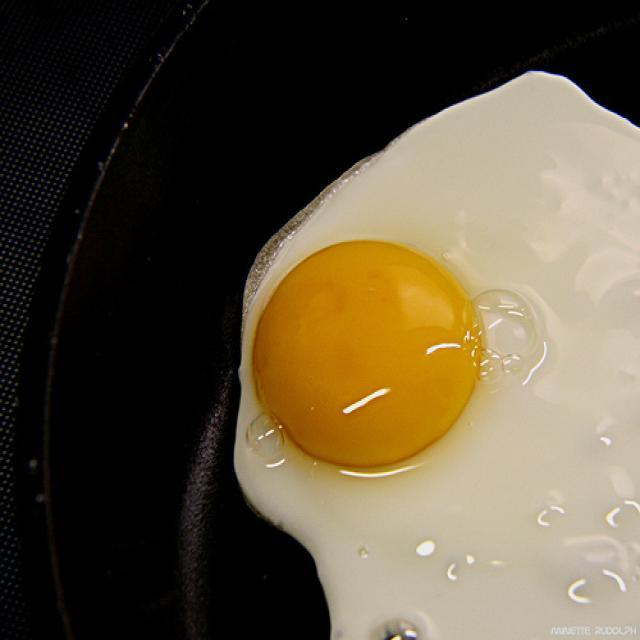Egg: (216, 58, 640, 640)
